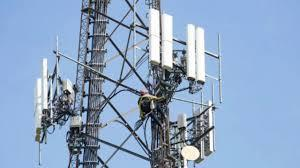Microwave Antenna: (178, 144, 201, 164)
antenna: (162, 12, 174, 70), (149, 10, 161, 65), (40, 57, 51, 113), (186, 20, 196, 78), (197, 26, 205, 85), (34, 76, 42, 126)
